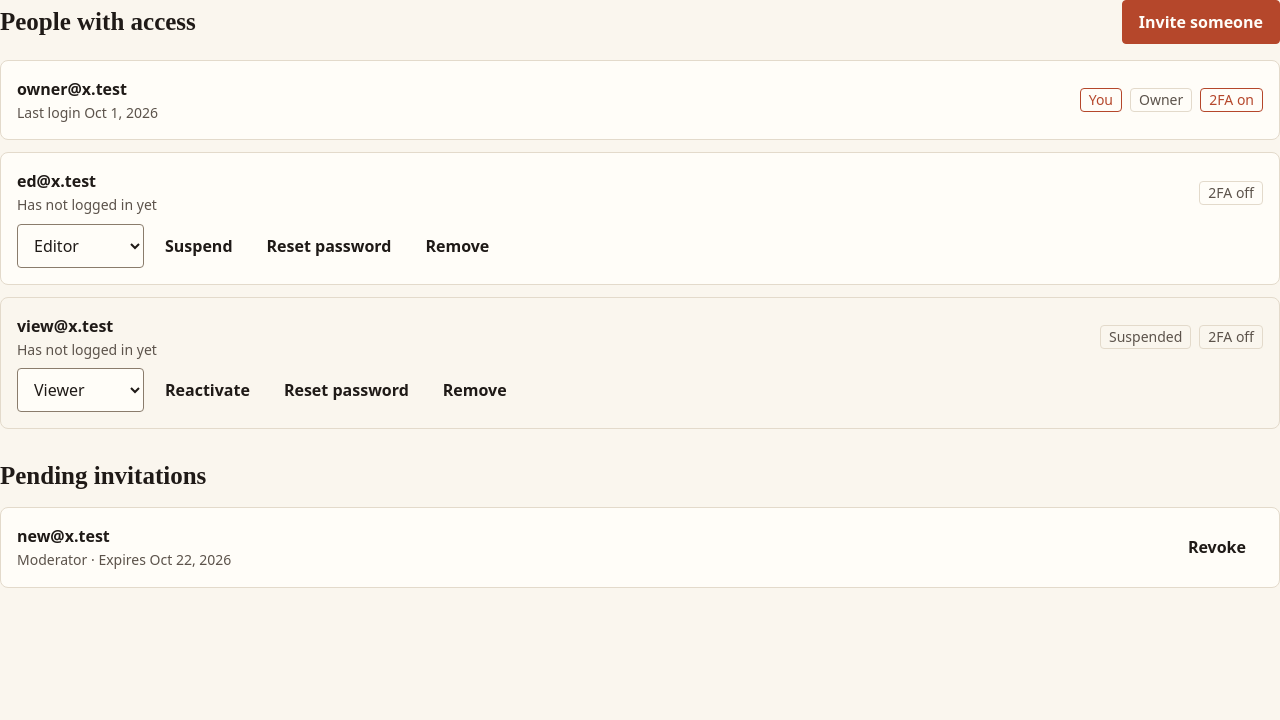
MembersManager › invites someone and shows the link when the email failed
Click the button "Invite someone" at (1201, 22), box [1122,0,1279,44]
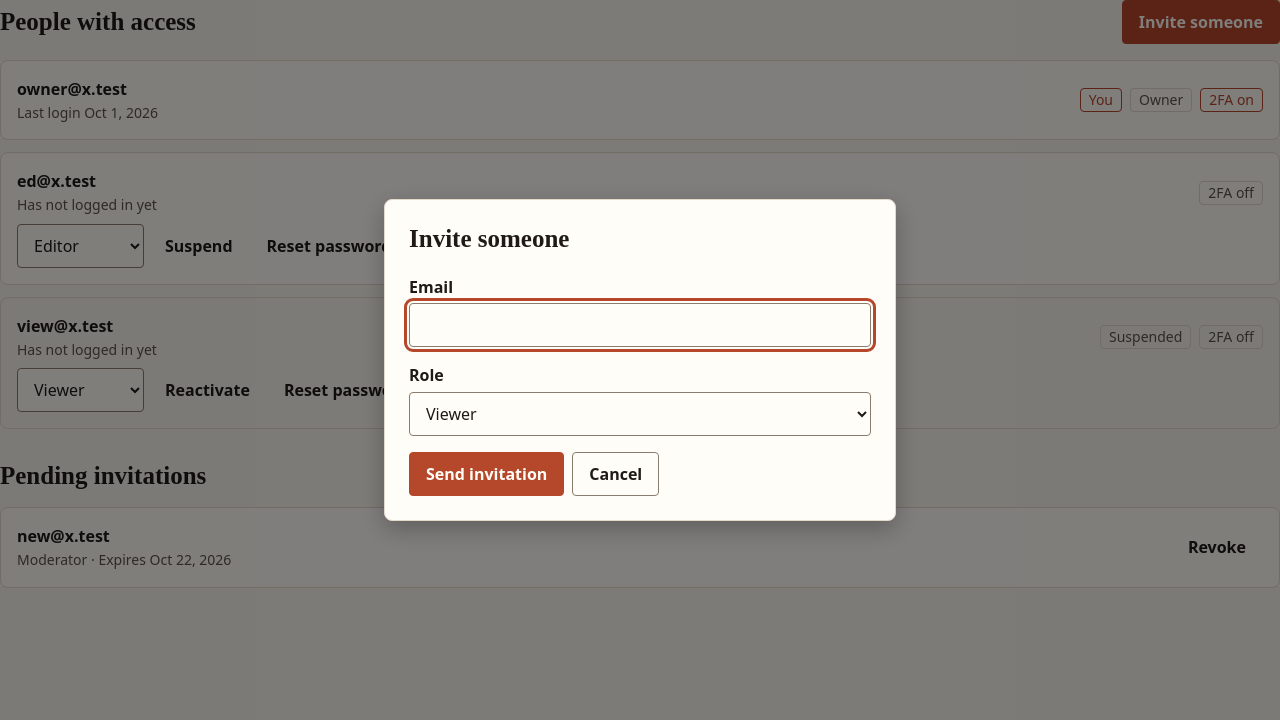
Type "Fresh@x.test" into the field labelled "Email" at (640, 325), box [409,303,871,347]
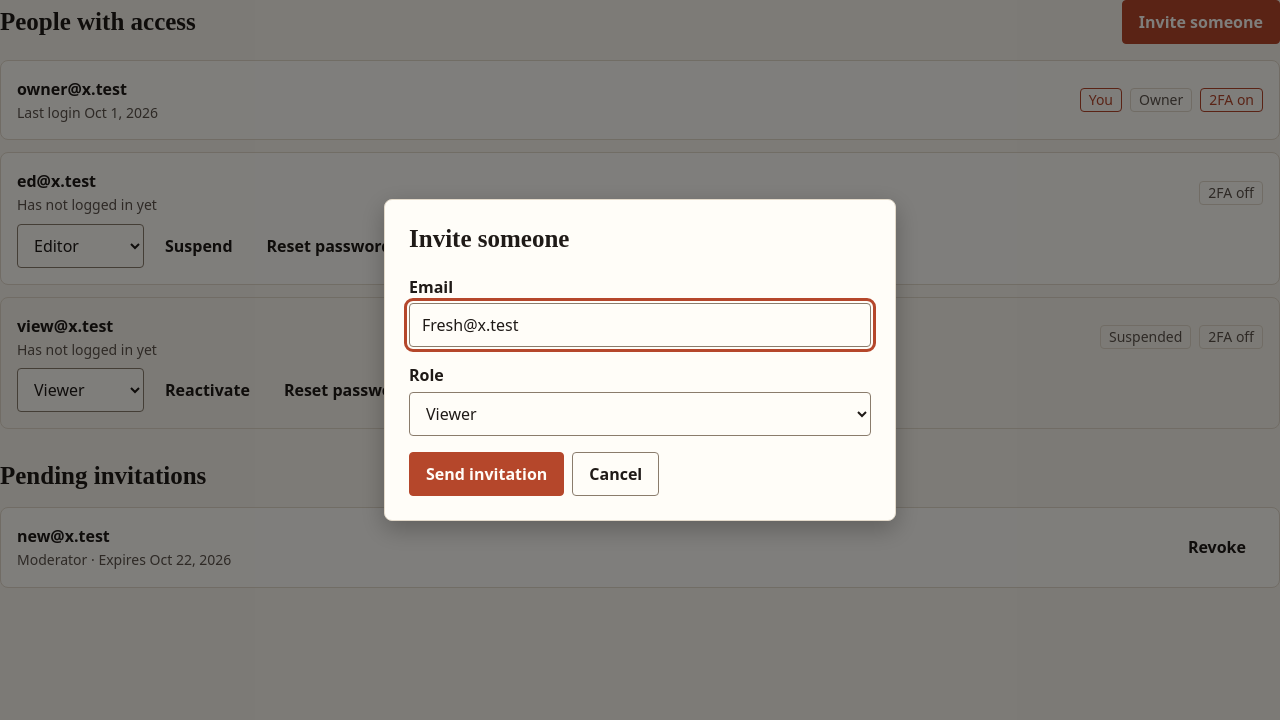
Select "Editor" in the dropdown labelled "Role" at (640, 414), box [409,392,871,436]
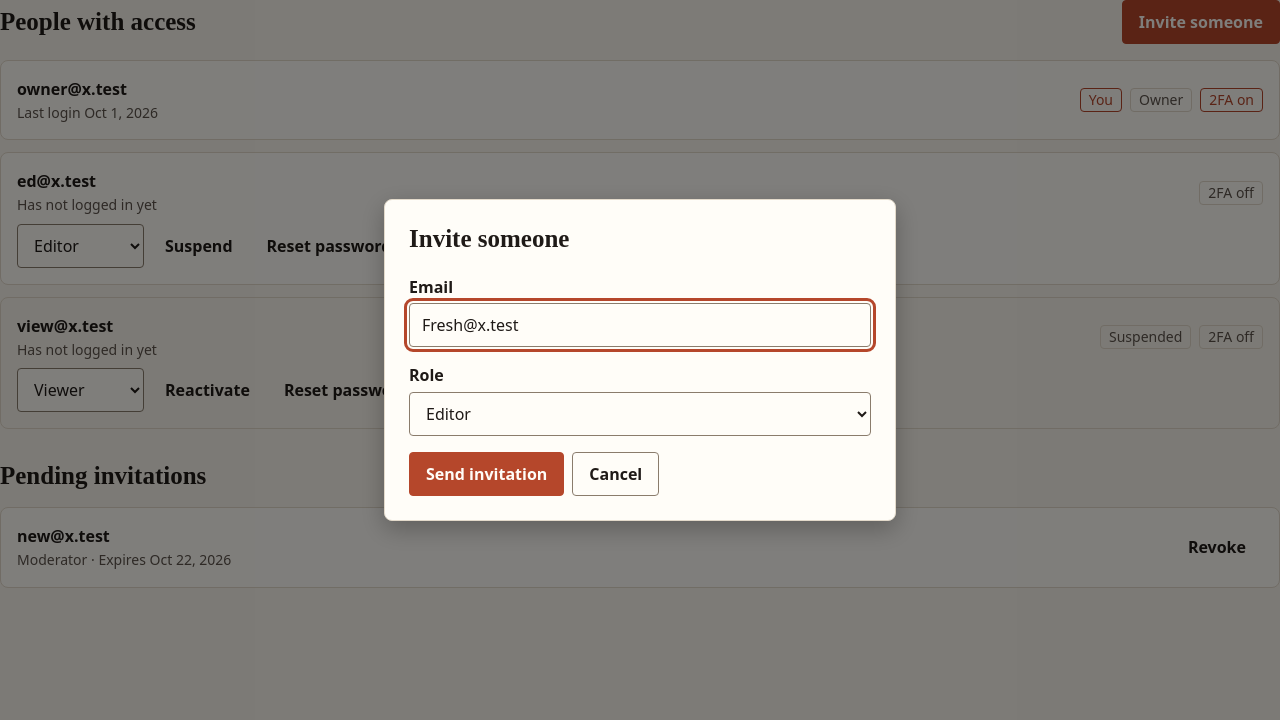
Click the button "Send invitation" at (487, 474), box [409,452,564,496]
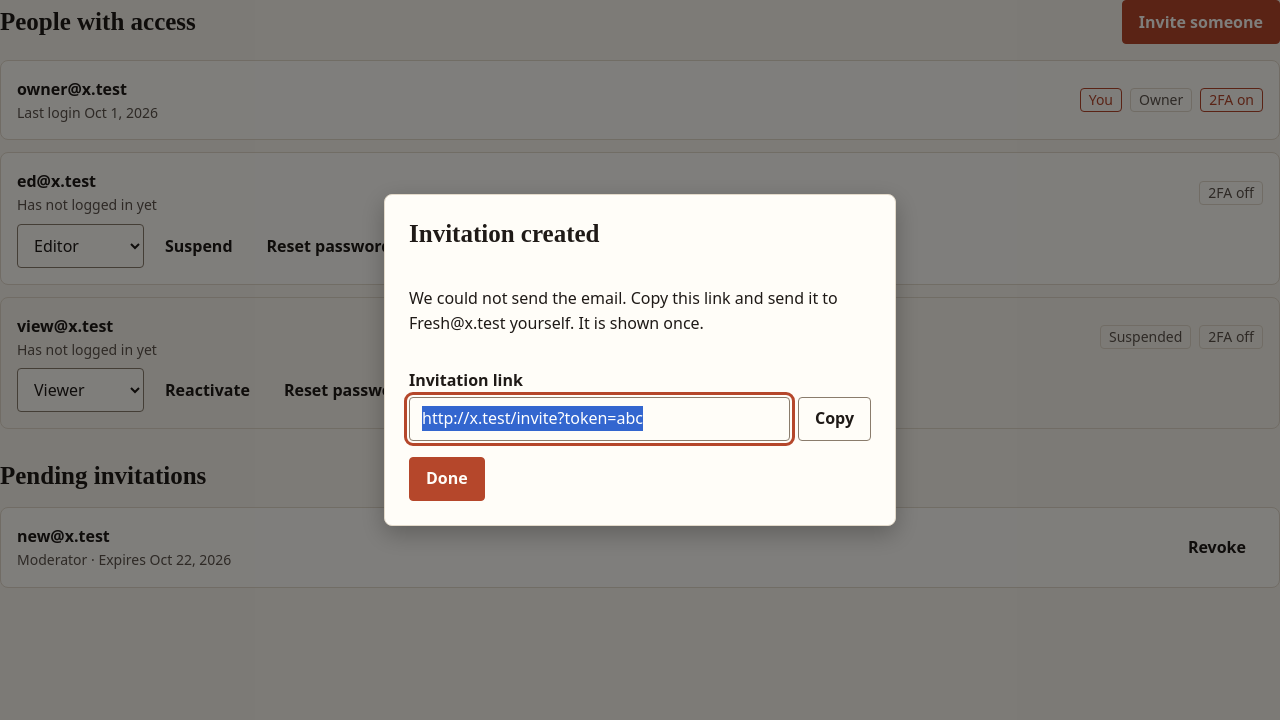
expect the field labelled "Invitation link" holds "http://x.test/invite?token=abc": met, box [409,397,790,441]
expect the text "could not send the email" is shown: met, box [409,287,838,334]
